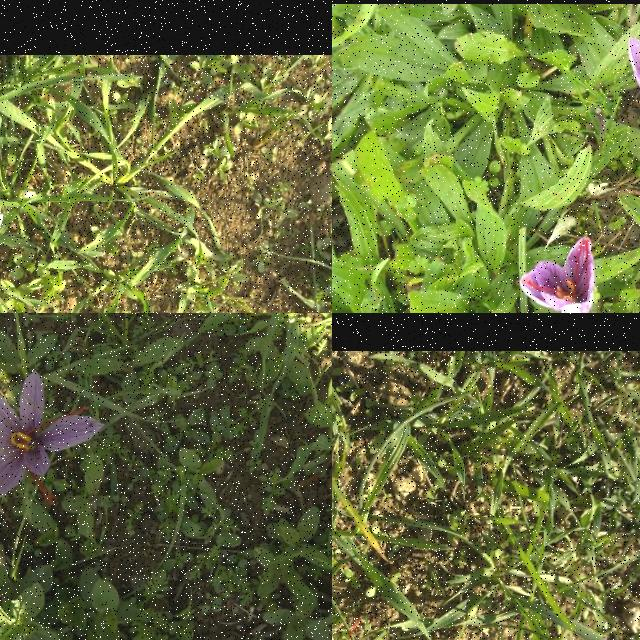flower: (0, 370, 106, 501), (519, 236, 596, 313)
